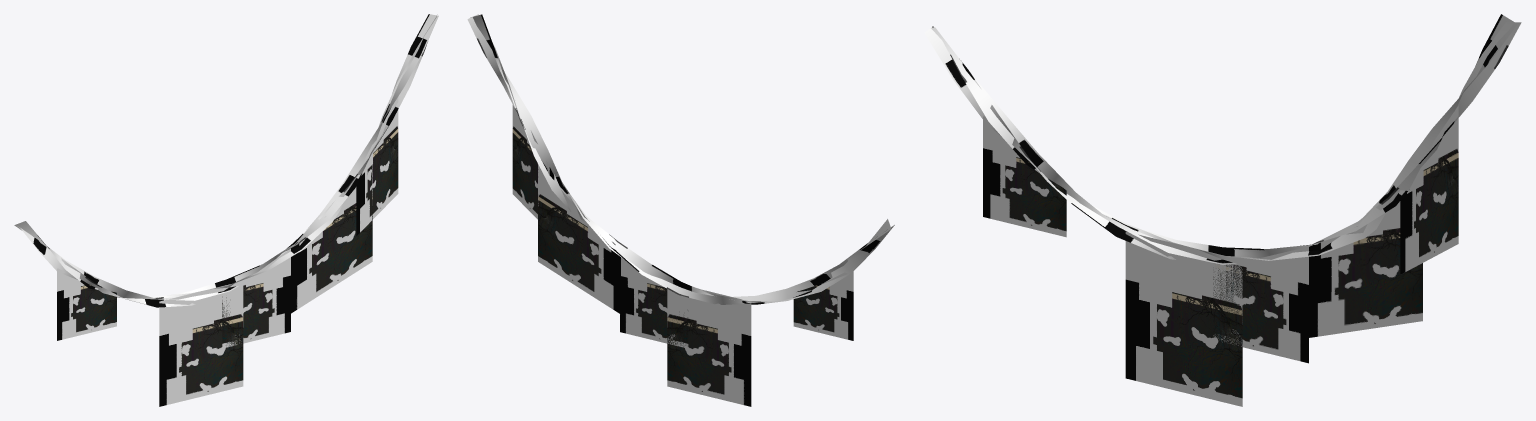
Rendered from Liana1.fbx.
The picture shows the model from 3 angles, left to right: view 1: azimuth 30°, elevation 25°; view 2: azimuth 150°, elevation 25°; view 3: azimuth 330°, elevation 25°; orthographic projection. The views are drawn at different scales.
Visible parts, largest first — view 1: polySurface5; view 2: polySurface5; view 3: polySurface5.
Boxes of the visible parts, x1,y1,x2,y2 form: polySurface5: (14,14,438,406); polySurface5: (467,14,894,406); polySurface5: (924,14,1521,406).
Size of the model in its own units: 11.54 by 8.51 by 0.3.
